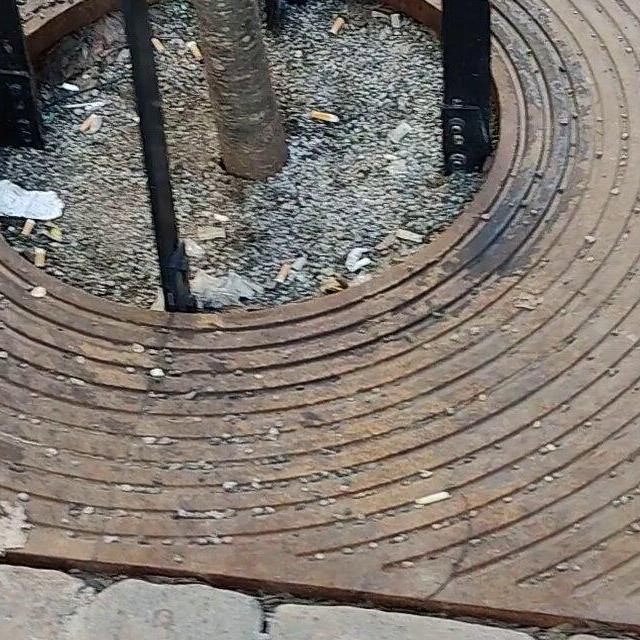Cigarette Butt: (309, 108, 343, 123), (35, 242, 49, 269), (275, 263, 290, 286), (187, 38, 202, 58), (329, 19, 344, 36), (80, 116, 97, 130), (24, 218, 33, 238), (154, 39, 163, 54)
